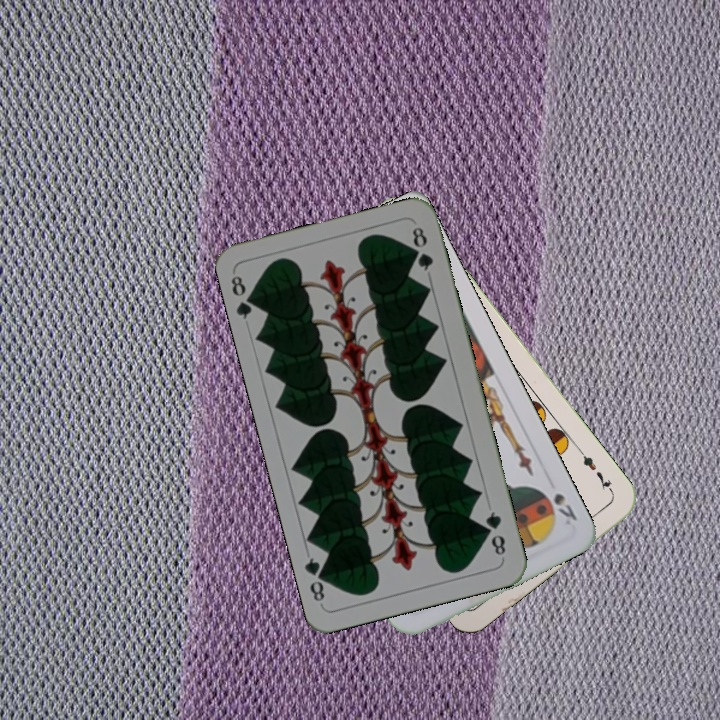E7: (575, 445, 616, 496)
G8: (226, 269, 261, 322), (481, 507, 508, 558)
SK: (549, 489, 580, 528)
